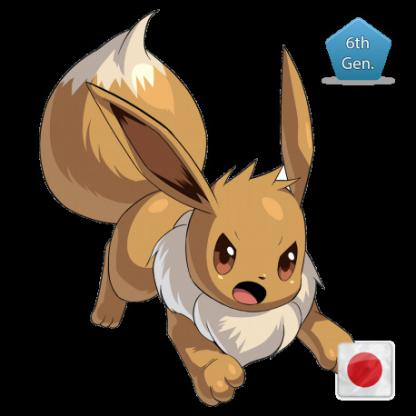Eevee: (1, 16, 358, 416)
